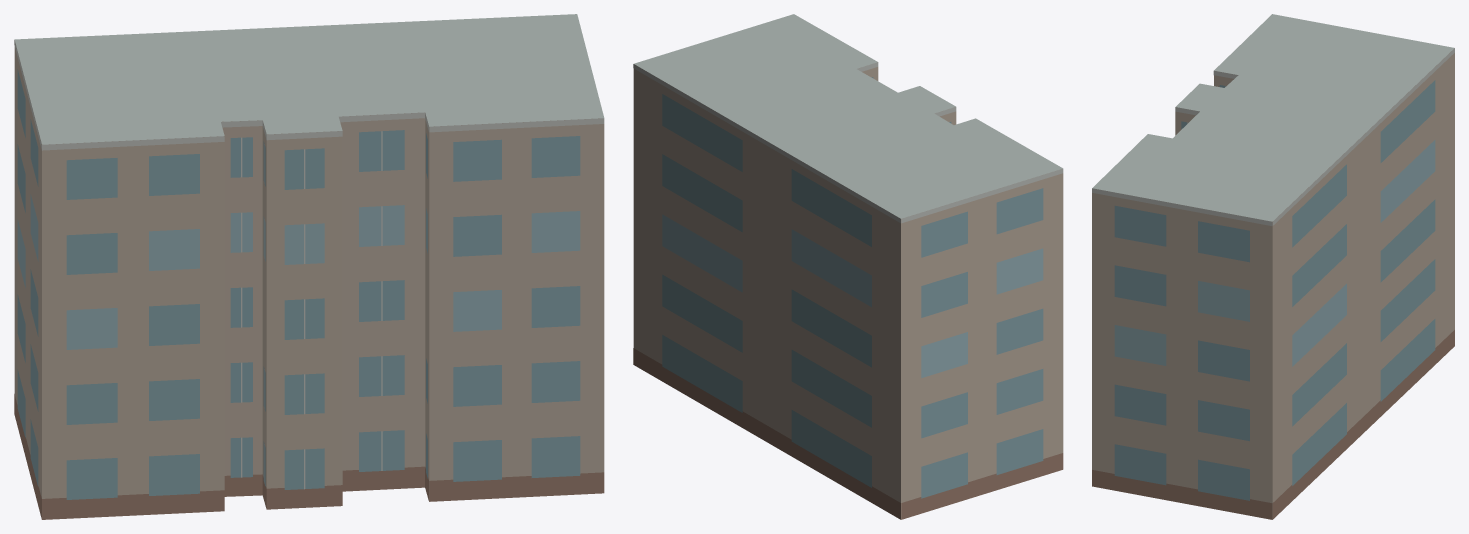
The model's file is survey-upis-32524551.glb.
3 renders of one model, left to right at view 1: azimuth 30°, elevation 25°; view 2: azimuth 150°, elevation 25°; view 3: azimuth 270°, elevation 25°, orthographic. The views are drawn at different scales.
Parts seen in each view (by area): view 1: survey-upis-32524551.tmp; view 2: survey-upis-32524551.tmp; view 3: survey-upis-32524551.tmp.
Part boxes in pixels (x1=…): survey-upis-32524551.tmp: x1=14, y1=14, x2=604, y2=519; survey-upis-32524551.tmp: x1=633, y1=14, x2=1063, y2=519; survey-upis-32524551.tmp: x1=1092, y1=14, x2=1454, y2=519.
Size of the model in its own units: 23.76 by 15.9 by 17.54.
